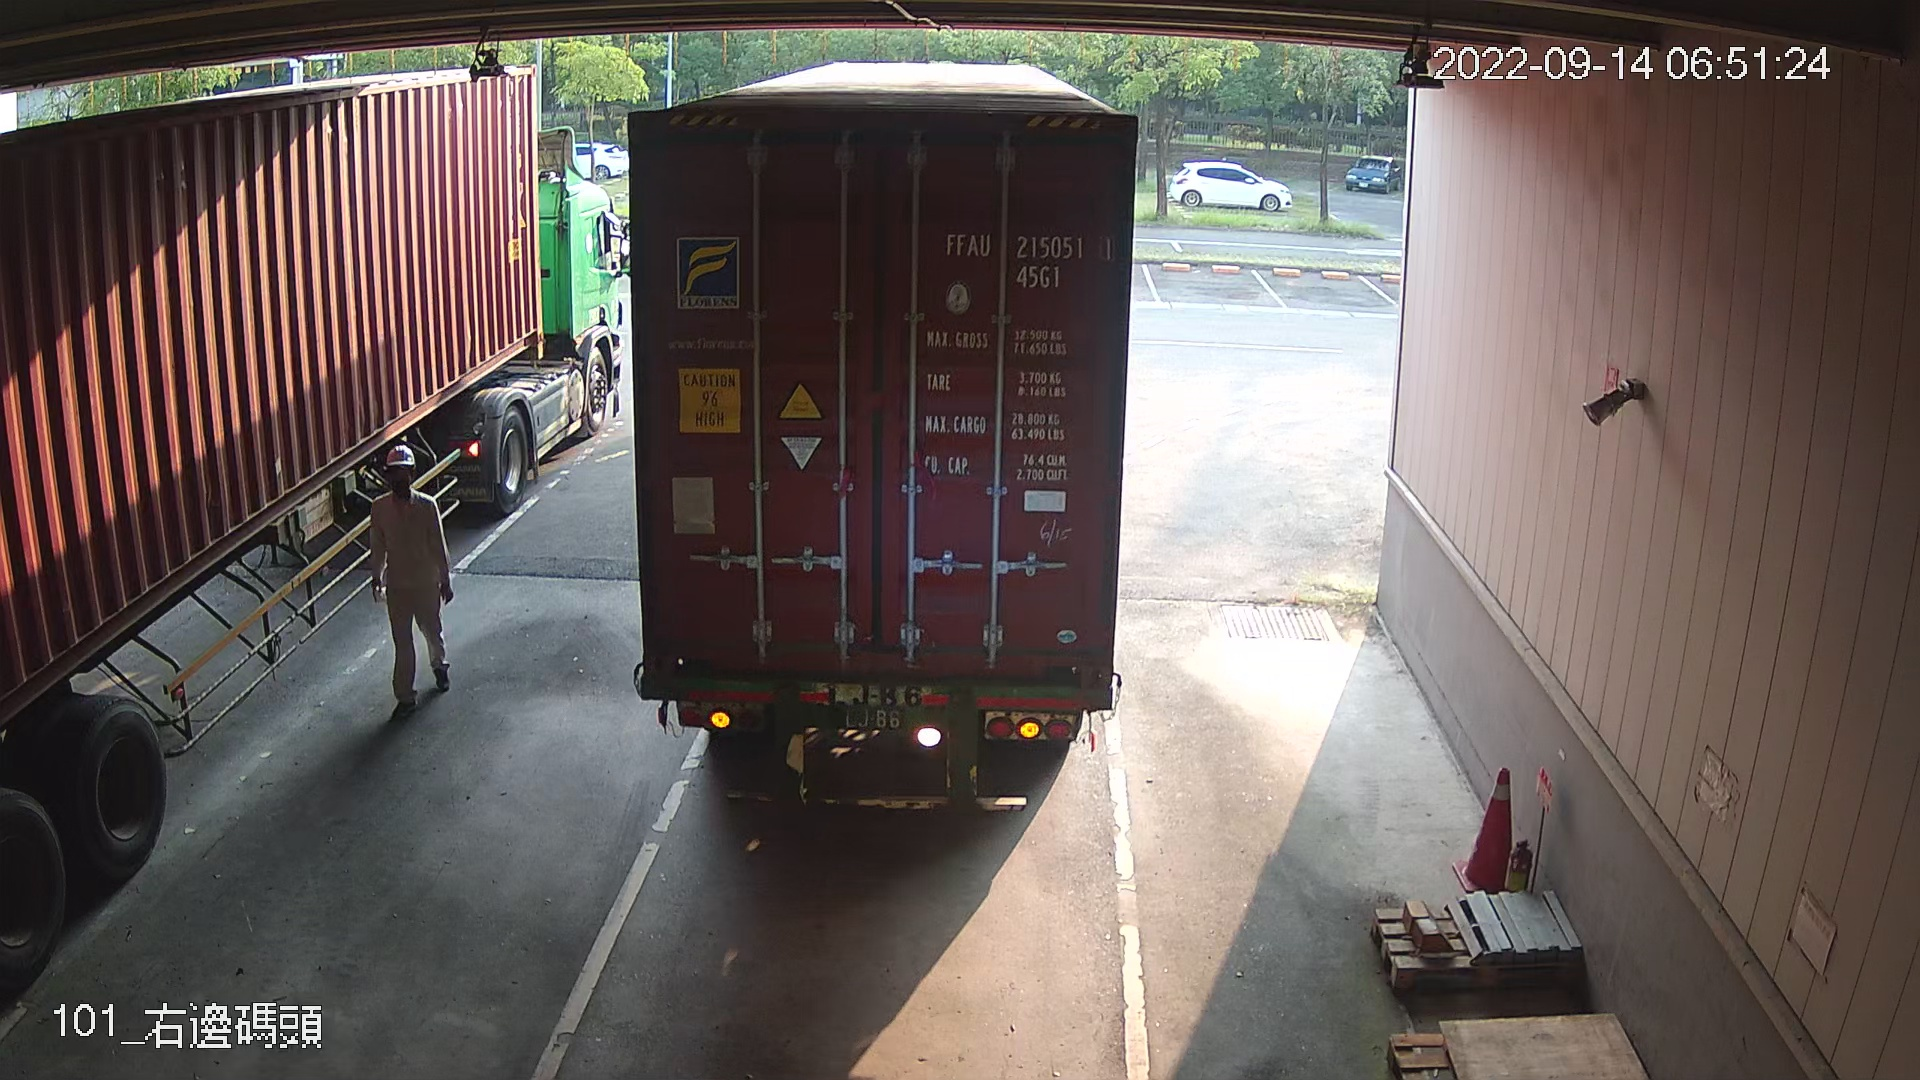container: (938, 223, 1120, 299)
